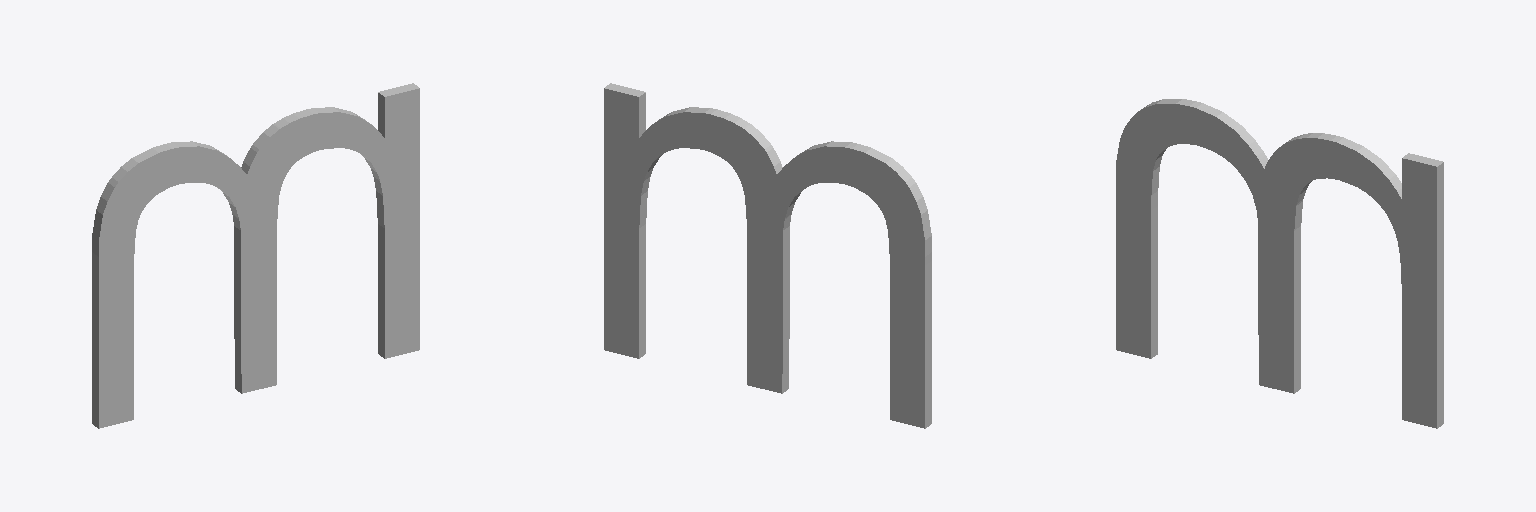
File: m_lower.obj
3 renders of one model, left to right at view 1: azimuth 30°, elevation 25°; view 2: azimuth 150°, elevation 25°; view 3: azimuth 330°, elevation 25°, orthographic.
Visible parts, largest first — view 1: default; view 2: default; view 3: default.
Part boxes in pixels (x1,y1,x2,y2): default: (92,83,419,428); default: (604,83,931,428); default: (1116,99,1443,428).
Size of the model in its own units: 2.7 by 2.1 by 0.1.